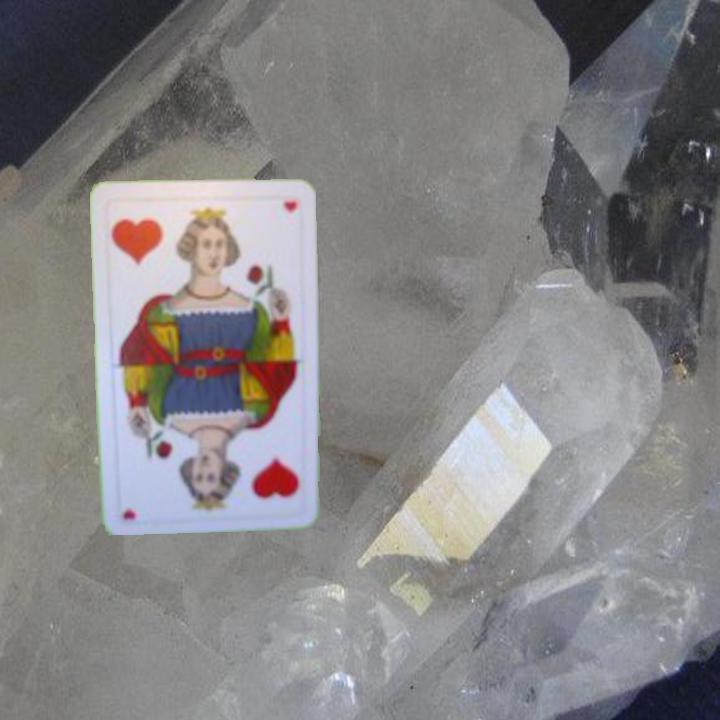h_q.png: (206, 427, 309, 516), (105, 194, 208, 283)
